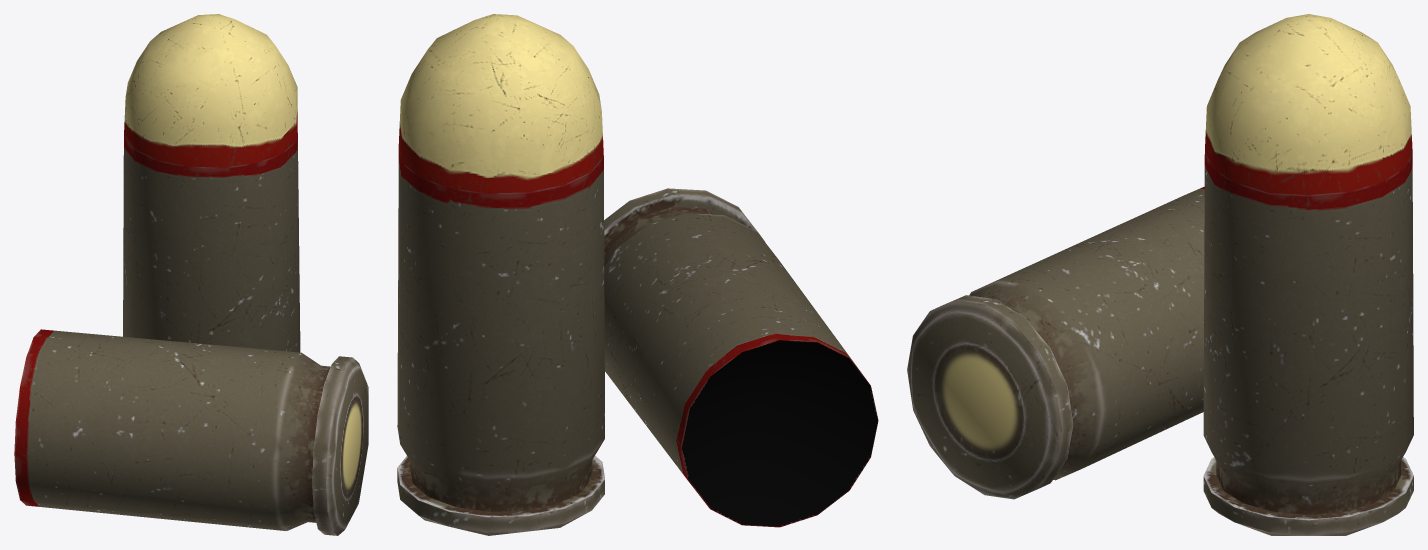
3 renders of one model, left to right at view 1: azimuth 30°, elevation 25°; view 2: azimuth 150°, elevation 25°; view 3: azimuth 270°, elevation 25°, orthographic. The views are drawn at different scales.
Parts seen in each view (by area): view 1: 9x18pm_shell, 9x18pm; view 2: 9x18pm, 9x18pm_shell; view 3: 9x18pm, 9x18pm_shell.
Boxes of the visible parts, x1,y1,x2,y2 form: 9x18pm_shell: (14,329,368,535); 9x18pm: (123,14,300,352); 9x18pm: (397,14,604,535); 9x18pm_shell: (604,188,878,527); 9x18pm: (1203,14,1413,535); 9x18pm_shell: (907,186,1204,499).
Size of the model in its own units: 2.16 by 2.5 by 2.4.
